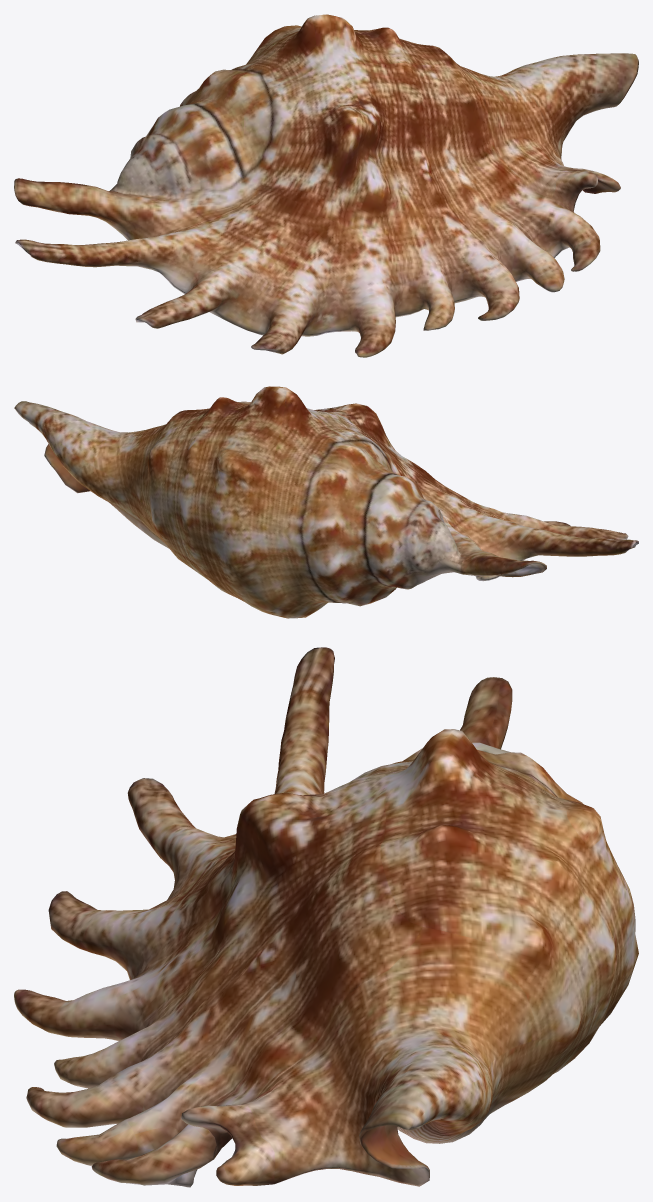
Rendered from lambis_shell.glb.
3 views of the same model, one above another, from view 1: azimuth 30°, elevation 25°; view 2: azimuth 150°, elevation 25°; view 3: azimuth 270°, elevation 25° (orthographic). The views are drawn at different scales.
Parts seen in each view (by area): view 1: lambis_shell; view 2: lambis_shell; view 3: lambis_shell.
Part boxes in pixels (x1=…): lambis_shell: x1=14, y1=14, x2=638, y2=357; lambis_shell: x1=14, y1=386, x2=638, y2=618; lambis_shell: x1=14, y1=647, x2=638, y2=1187.
Size of the model in its own units: 0.1395 by 0.0465 by 0.0745.
Materials: 1 (1 with a texture image).
